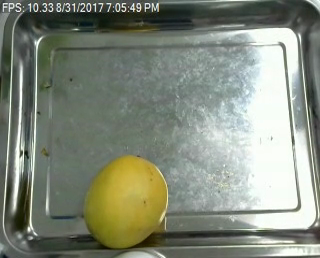Mango: (83, 156, 170, 246)
